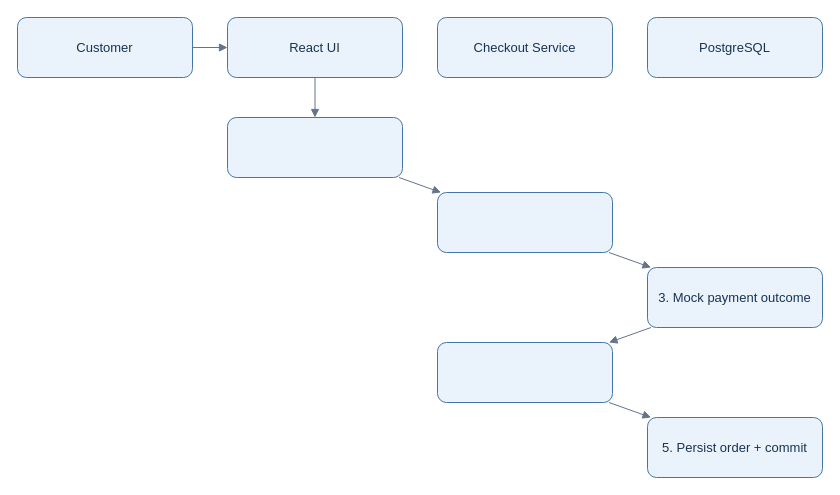
Some shapes in this 840 by 495 pixel diagram are drawn without their labels. The centre of each missing label's shape, as x and y in pixels:
"1. Submit order + key" goes at (x=314, y=147).
"2. Check key / cart" goes at (x=524, y=222).
"4. Atomic stock updates" goes at (x=524, y=372).
